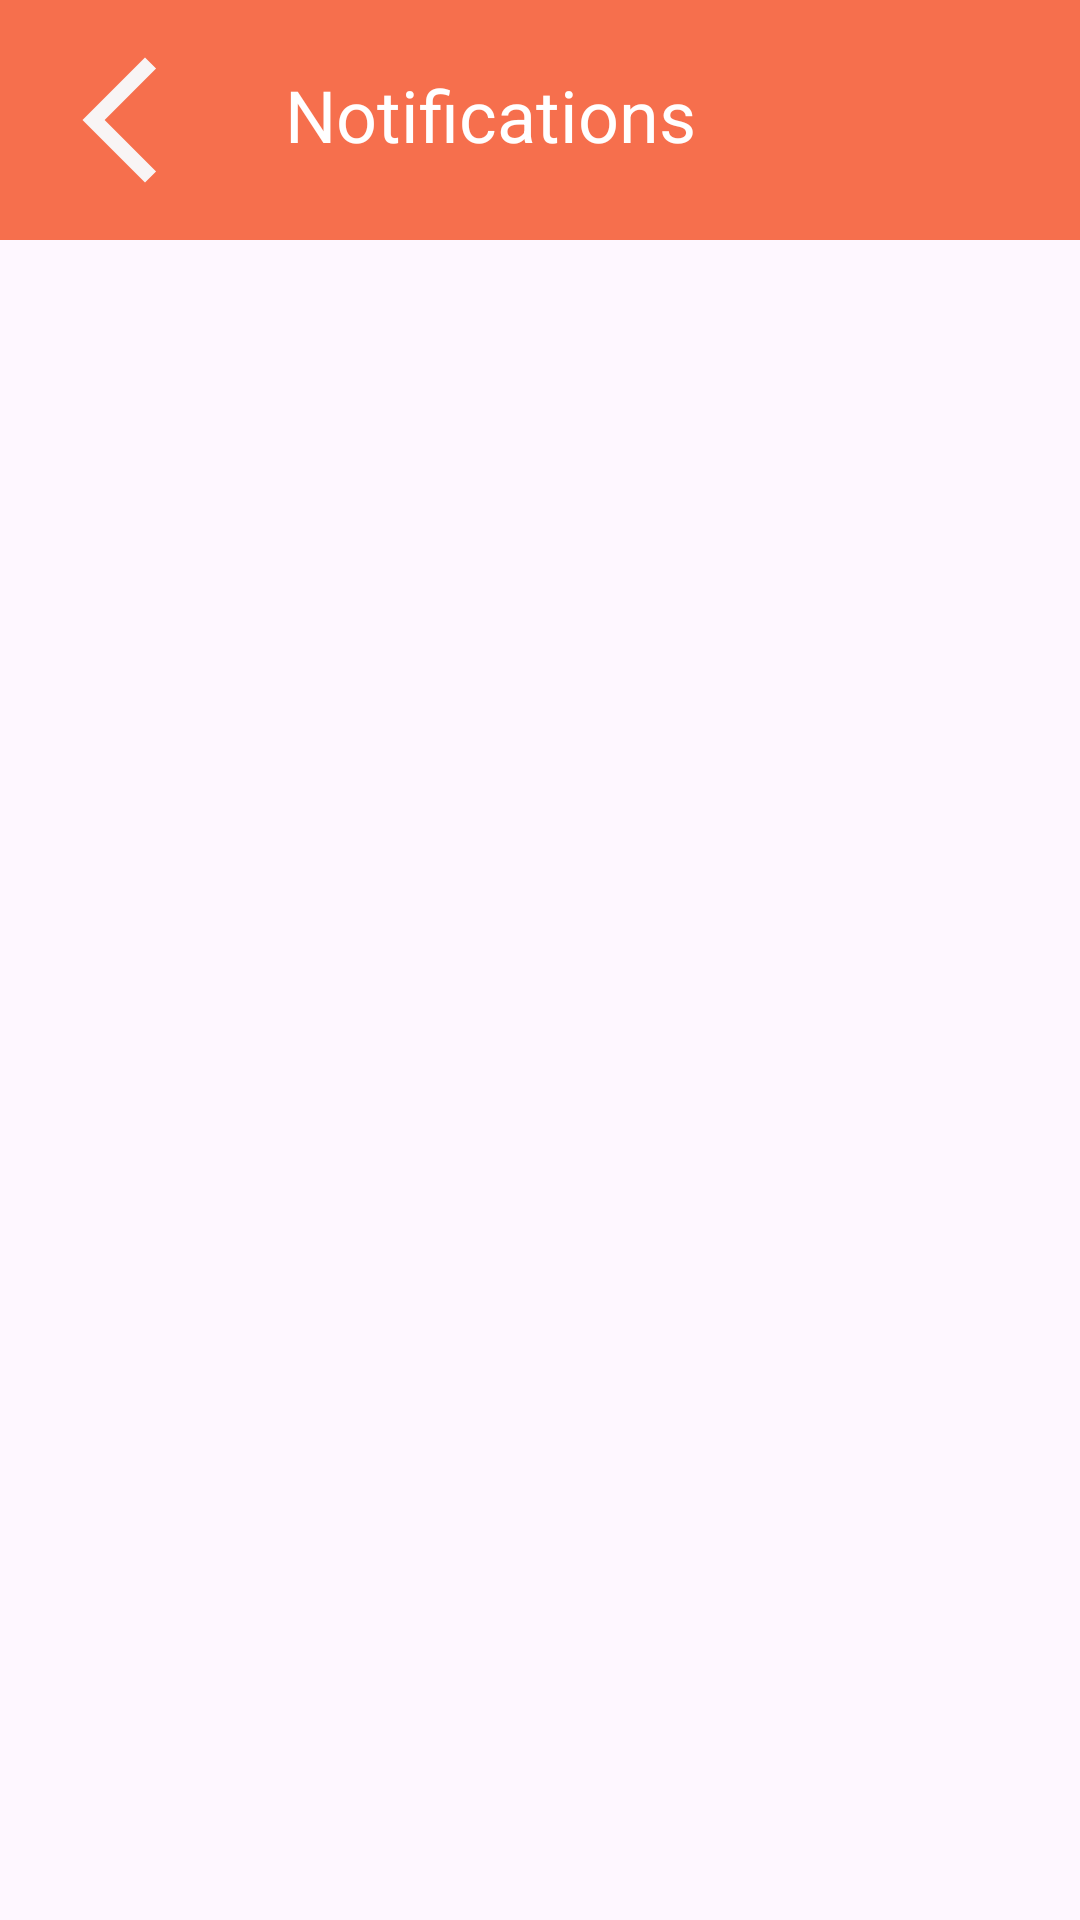

Locate icon controls on the screen. Image size 1080 × 1920, boxes as [x1,y1,x2,y2].
arrow back: [83,58,156,182]
